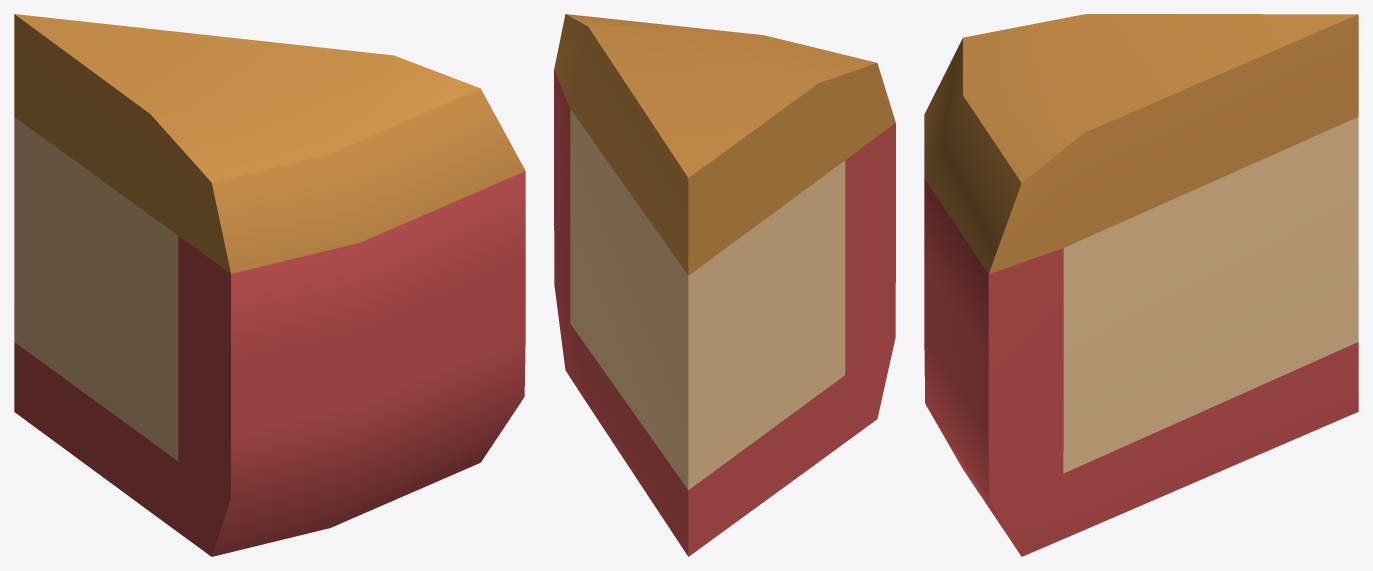
The model's file is mooncake_eigth.fbx.
3 views of the same model, side by side, from view 1: azimuth 30°, elevation 25°; view 2: azimuth 150°, elevation 25°; view 3: azimuth 270°, elevation 25° (orthographic). The views are drawn at different scales.
Visible parts, largest first — view 1: mooncake_eigth2; view 2: mooncake_eigth2; view 3: mooncake_eigth2.
Part boxes in pixels (box(x1,y1,x2,y2)): mooncake_eigth2: box(14, 14, 525, 556); mooncake_eigth2: box(554, 14, 895, 556); mooncake_eigth2: box(924, 14, 1358, 556).
Bounding box in the file's own units: 0.4242 × 0.4937 × 0.4887.
